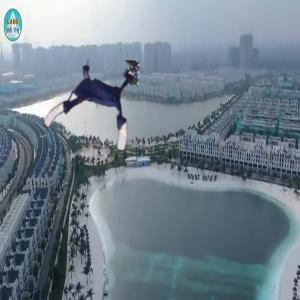drone: (45, 58, 139, 152)
